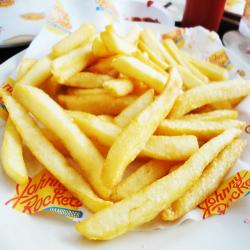fries: (10, 29, 247, 229)
